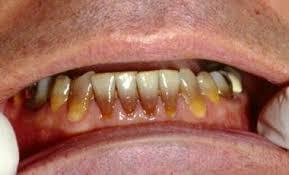Discoloration: (57, 70, 95, 117), (134, 70, 164, 117), (114, 67, 142, 117), (91, 69, 121, 115), (181, 70, 208, 117), (160, 67, 183, 115), (49, 75, 75, 108), (31, 78, 53, 112), (199, 66, 220, 101), (213, 65, 233, 98)
